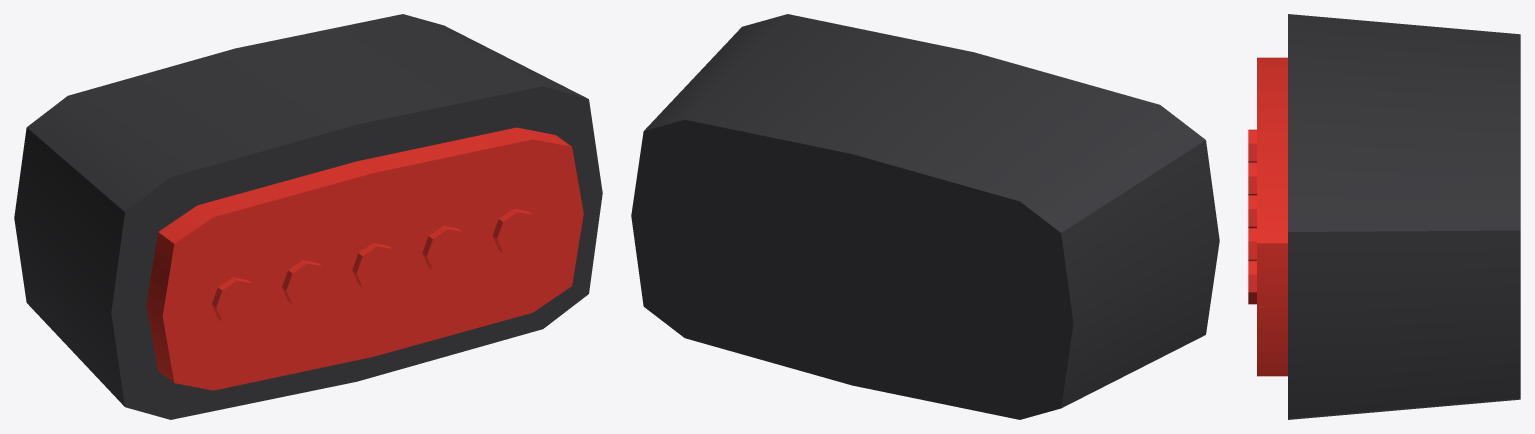
The model's file is led.glb.
3 views of the same model, side by side, from view 1: azimuth 30°, elevation 25°; view 2: azimuth 150°, elevation 25°; view 3: azimuth 270°, elevation 25° (orthographic). The views are drawn at different scales.
Visible parts, largest first — view 1: lod0; view 2: lod0; view 3: lod0.
Boxes of the visible parts, left/top/right/bottom form: lod0: left=14, top=14, right=602, bottom=419; lod0: left=631, top=14, right=1219, bottom=419; lod0: left=1248, top=14, right=1520, bottom=419.
Size of what is drawn, in the model's own units: 0.07 by 0.035 by 0.0351.
